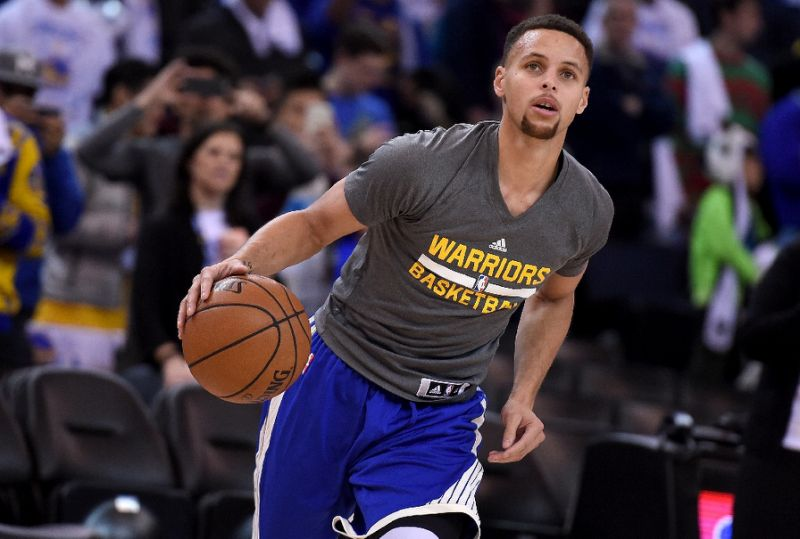Basketball: (178, 272, 314, 407)
